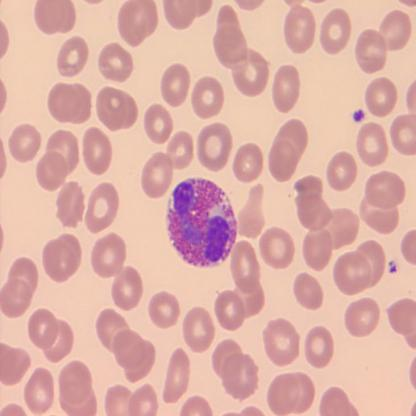Eosinophil: (168, 177, 237, 269)
